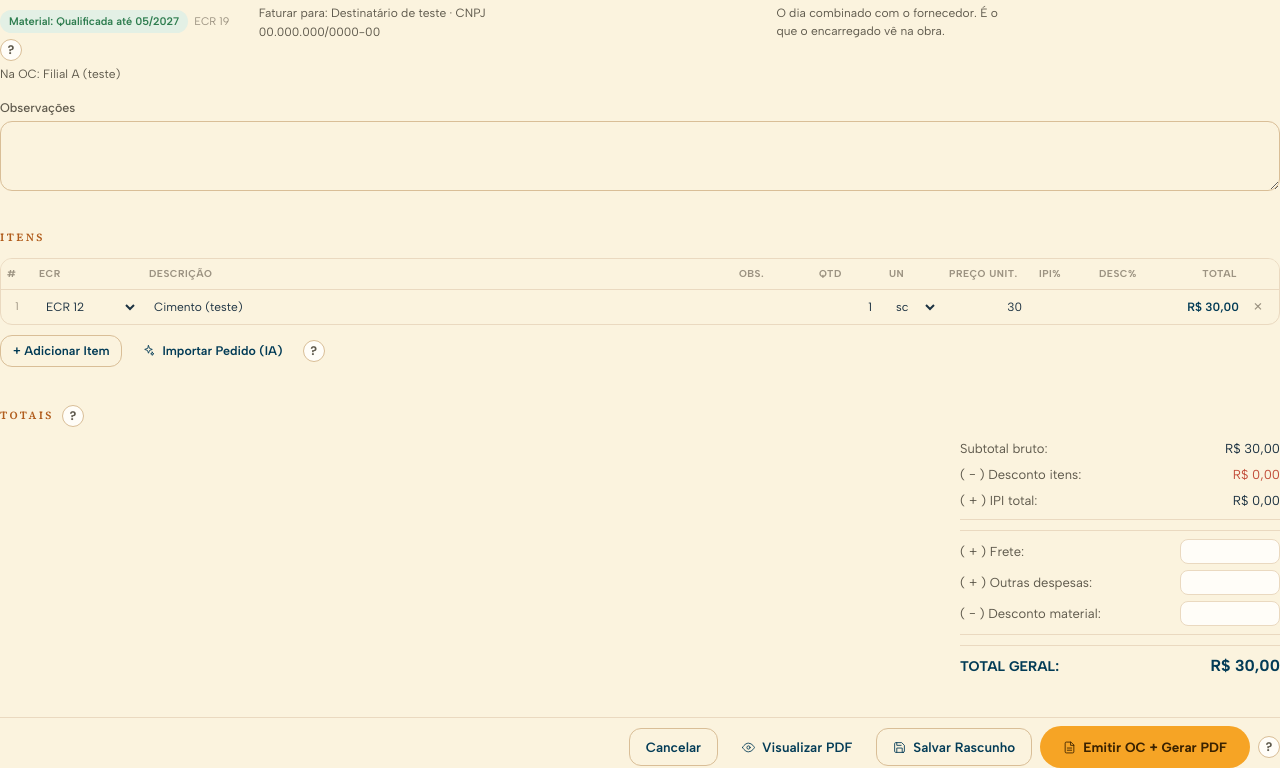
Test case: D605 — a porta "Emitir OC" da Nova OC › qualificada, mas não para a ECR da OC: zero gravação; o "Qualificar agora" soma as que ela já tinha
(page scrolled)
What coordinates should you click on to do the following:
click the button "Emitir OC + Gerar PDF"
I would click on:
 (1145, 747)
Its box is [1040,726,1250,767].
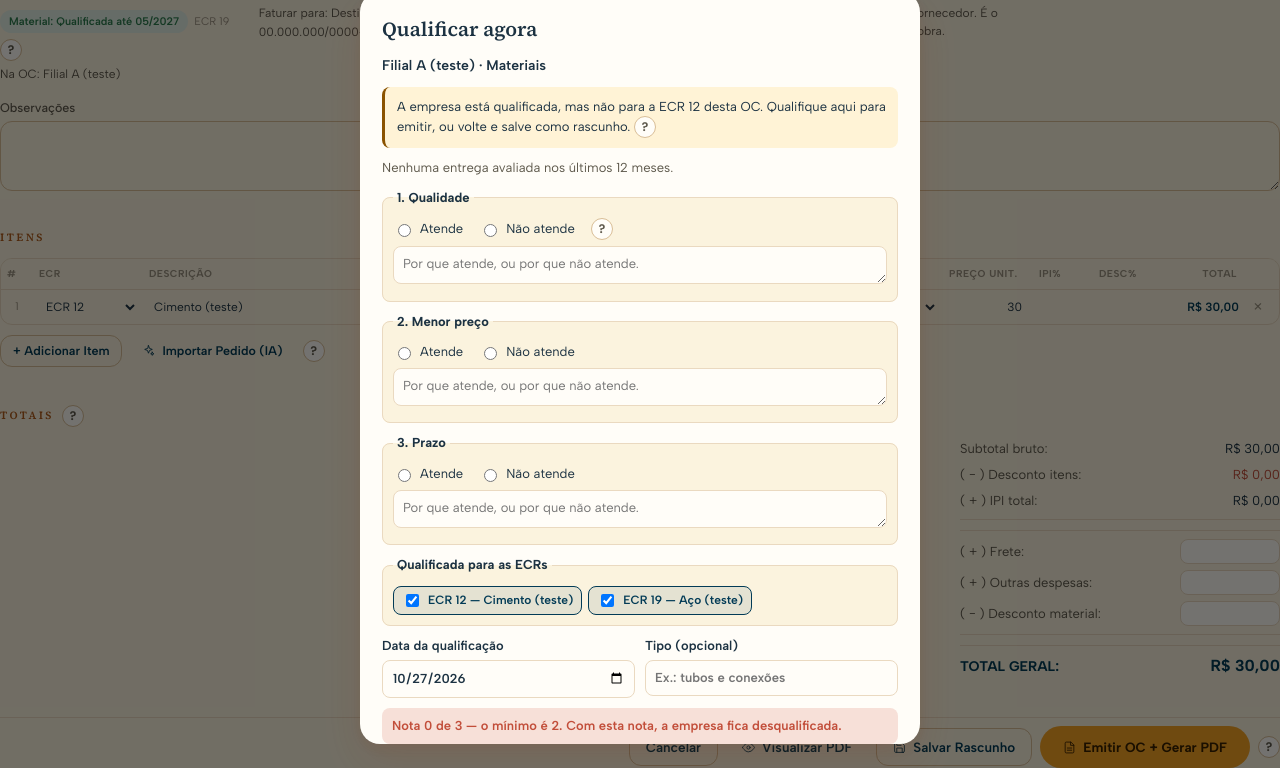
Now the text "não para a ECR 12" is shown, box [397,99,886,134]
Now the checkbox labelled "ECR 12 — Cimento (teste)" is checked, box [406,594,419,607]
Now the checkbox labelled "ECR 19 — Aço (teste)" is checked, box [601,594,614,607]
